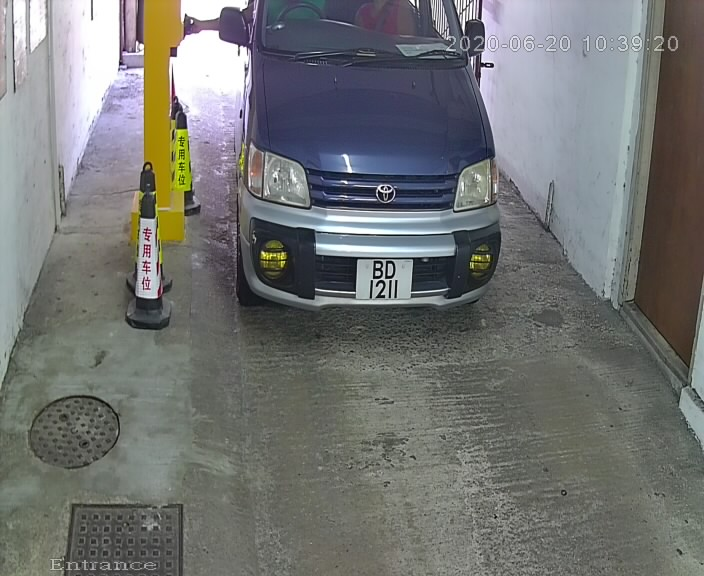privatecar: (221, 3, 497, 335)
